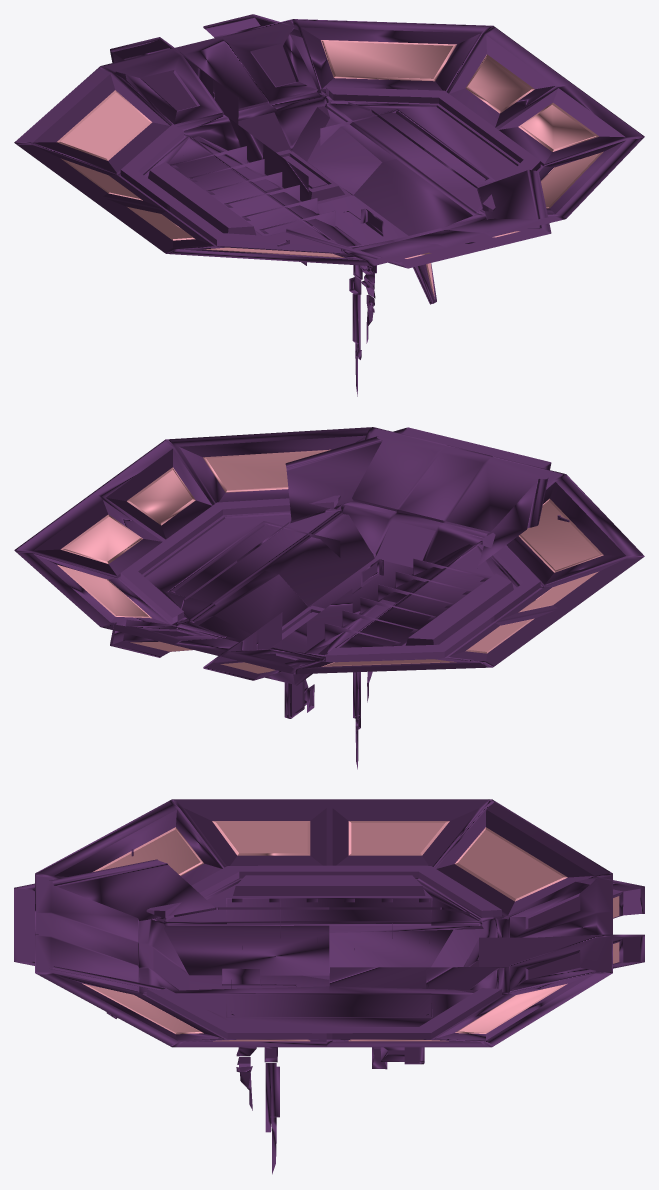
The model's file is landing_pad_underside.glb.
The picture shows the model from 3 angles, top to bottom: view 1: azimuth 30°, elevation 25°; view 2: azimuth 150°, elevation 25°; view 3: azimuth 270°, elevation 25°; orthographic projection. The views are drawn at different scales.
Bounding box in the file's own units: 82.63 × 39.54 × 88.96.
